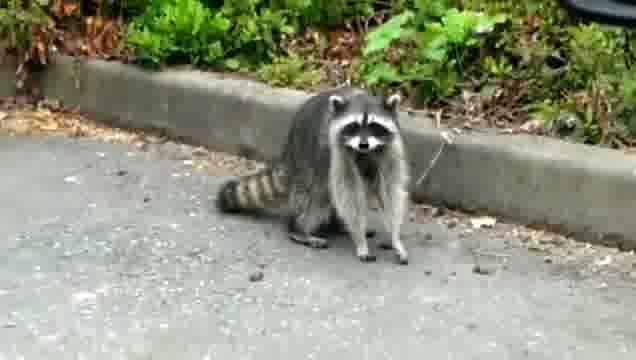raccoon: (216, 84, 419, 267)
